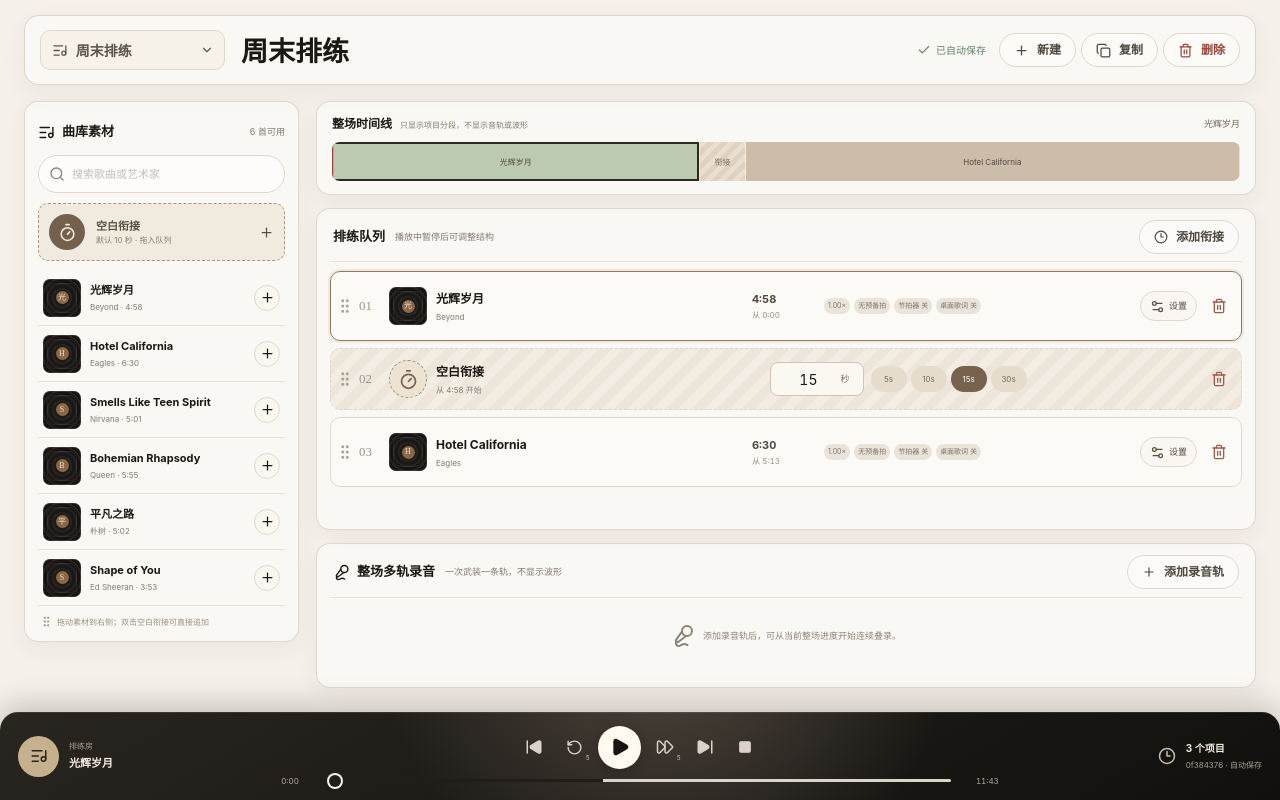
RehearsalRoom › adds material, supports keyboard ordering, flushes autosave and contains no waveform UI
The image size is (1280, 800).
Check: the text "排练队列" is shown, box [333, 227, 385, 247]
Check: the number of elements with class "rehearsal-queue-item" is 3, box [330, 271, 1242, 341]; [330, 348, 1242, 410]; [330, 417, 1242, 487]
Click the button named "将 光辉岁月 加入队列" at (267, 298), box [254, 284, 280, 310]
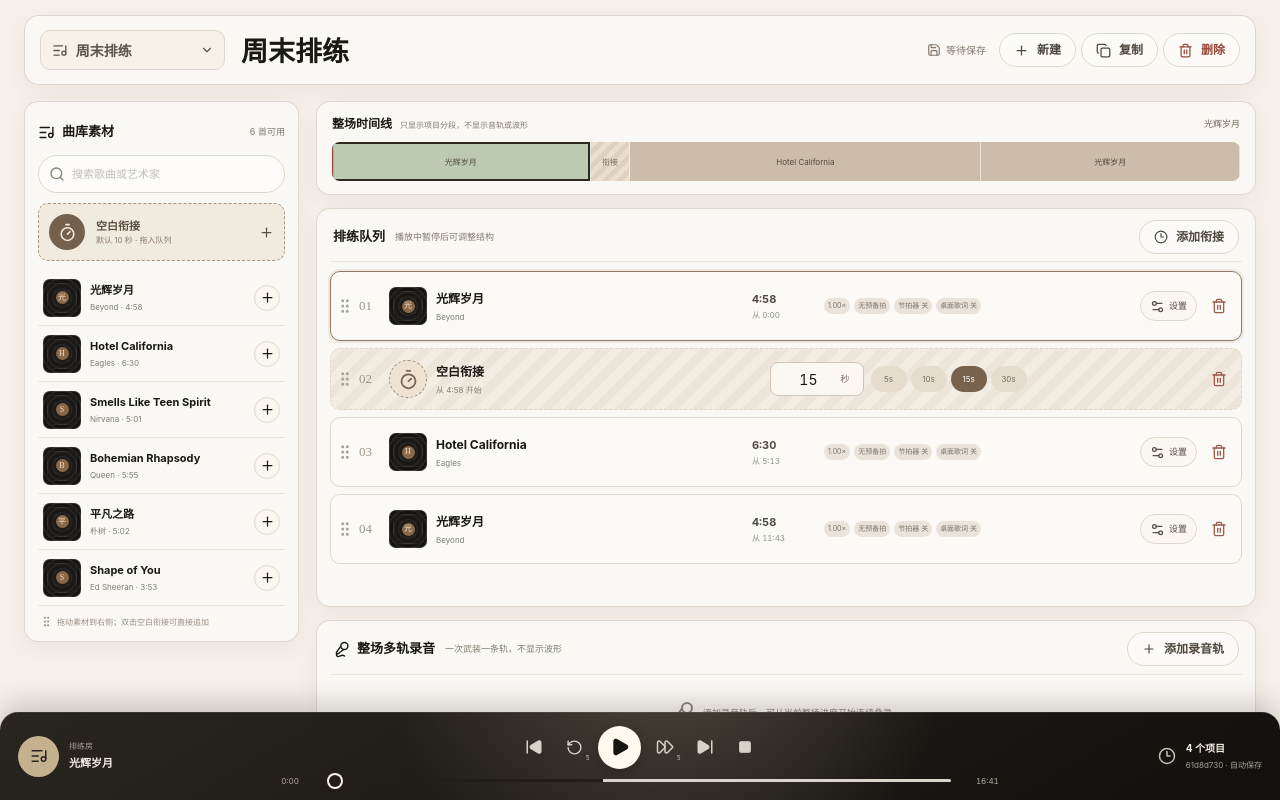
Check: the number of elements with class "rehearsal-queue-item" is 4, box [330, 271, 1242, 341]; [330, 348, 1242, 410]; [330, 417, 1242, 487]; [330, 494, 1242, 564]
Press ArrowDown in the button named "拖动第 1 项", box [331, 272, 359, 340]
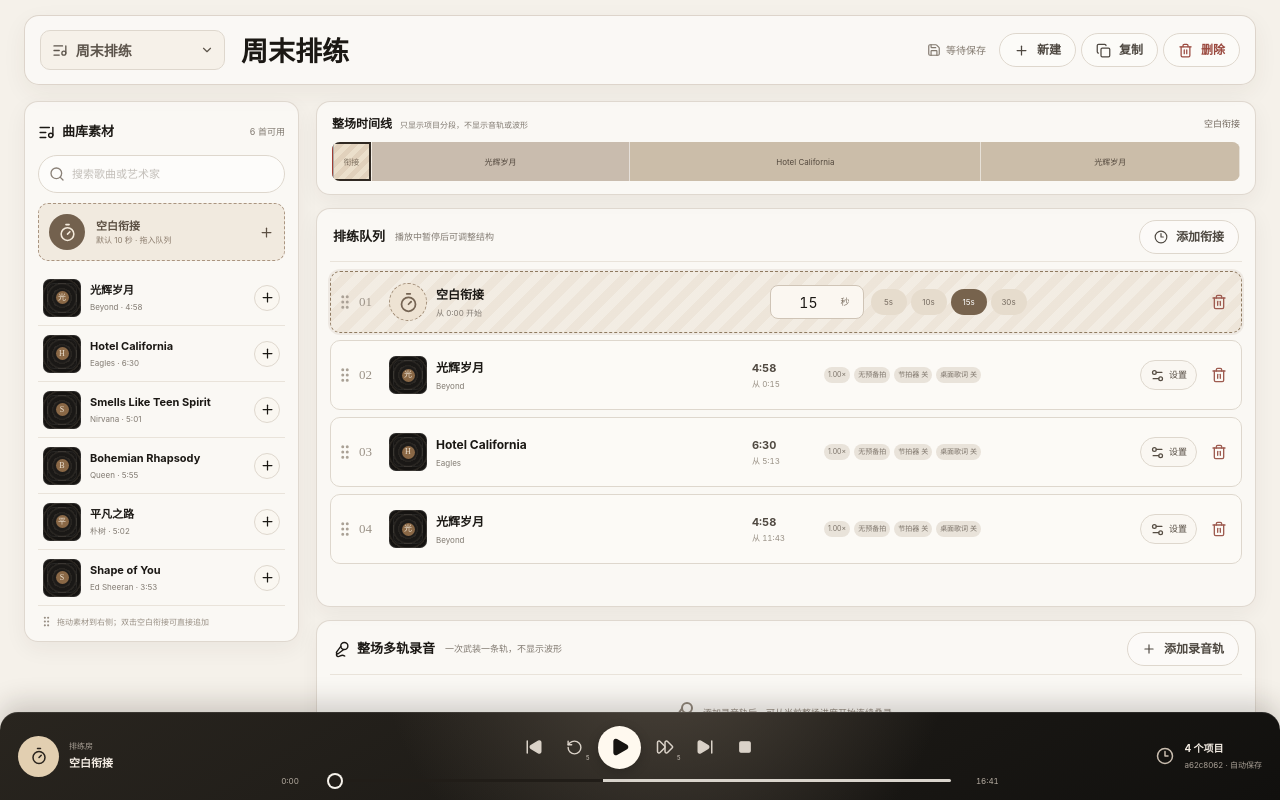
Click the button "设置" in the row of "从 0:15" at (1168, 375), box [1140, 360, 1197, 390]
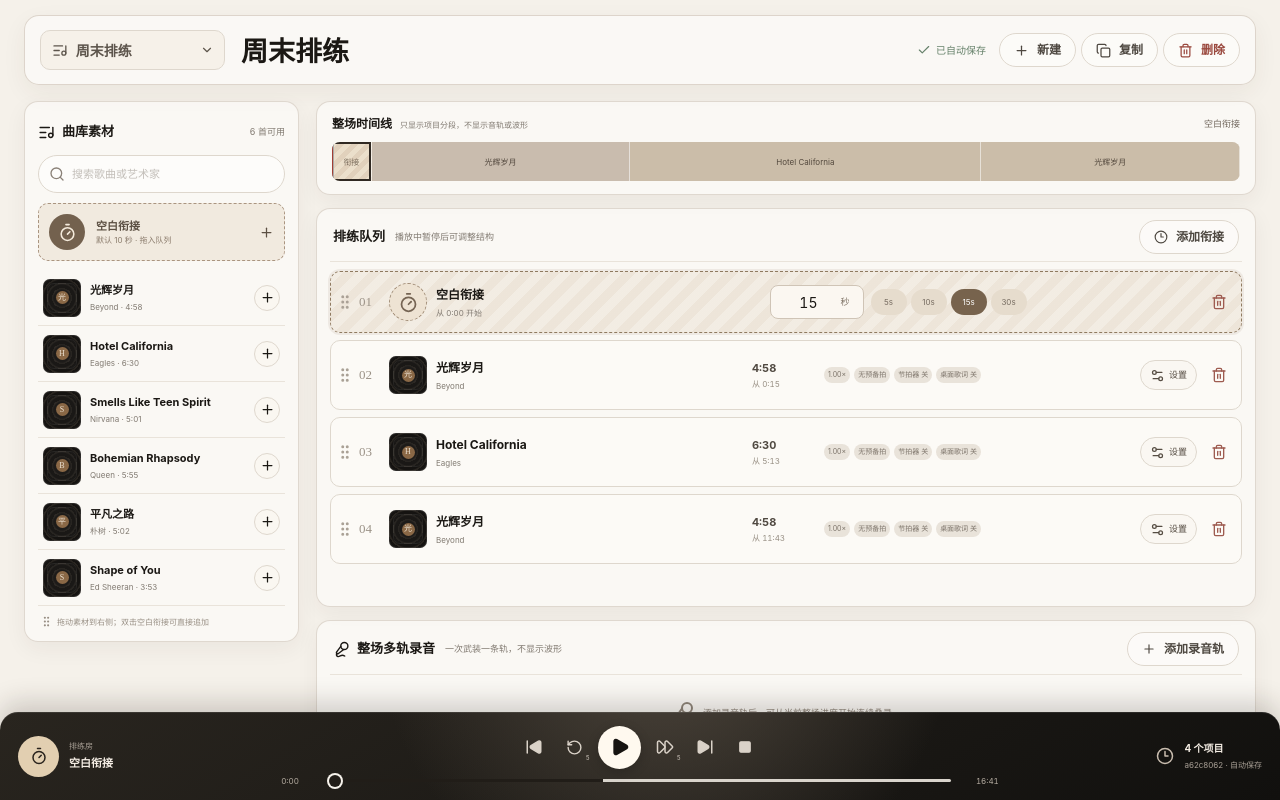
Check: the text "已自动保存" is shown, box [917, 42, 986, 58]
